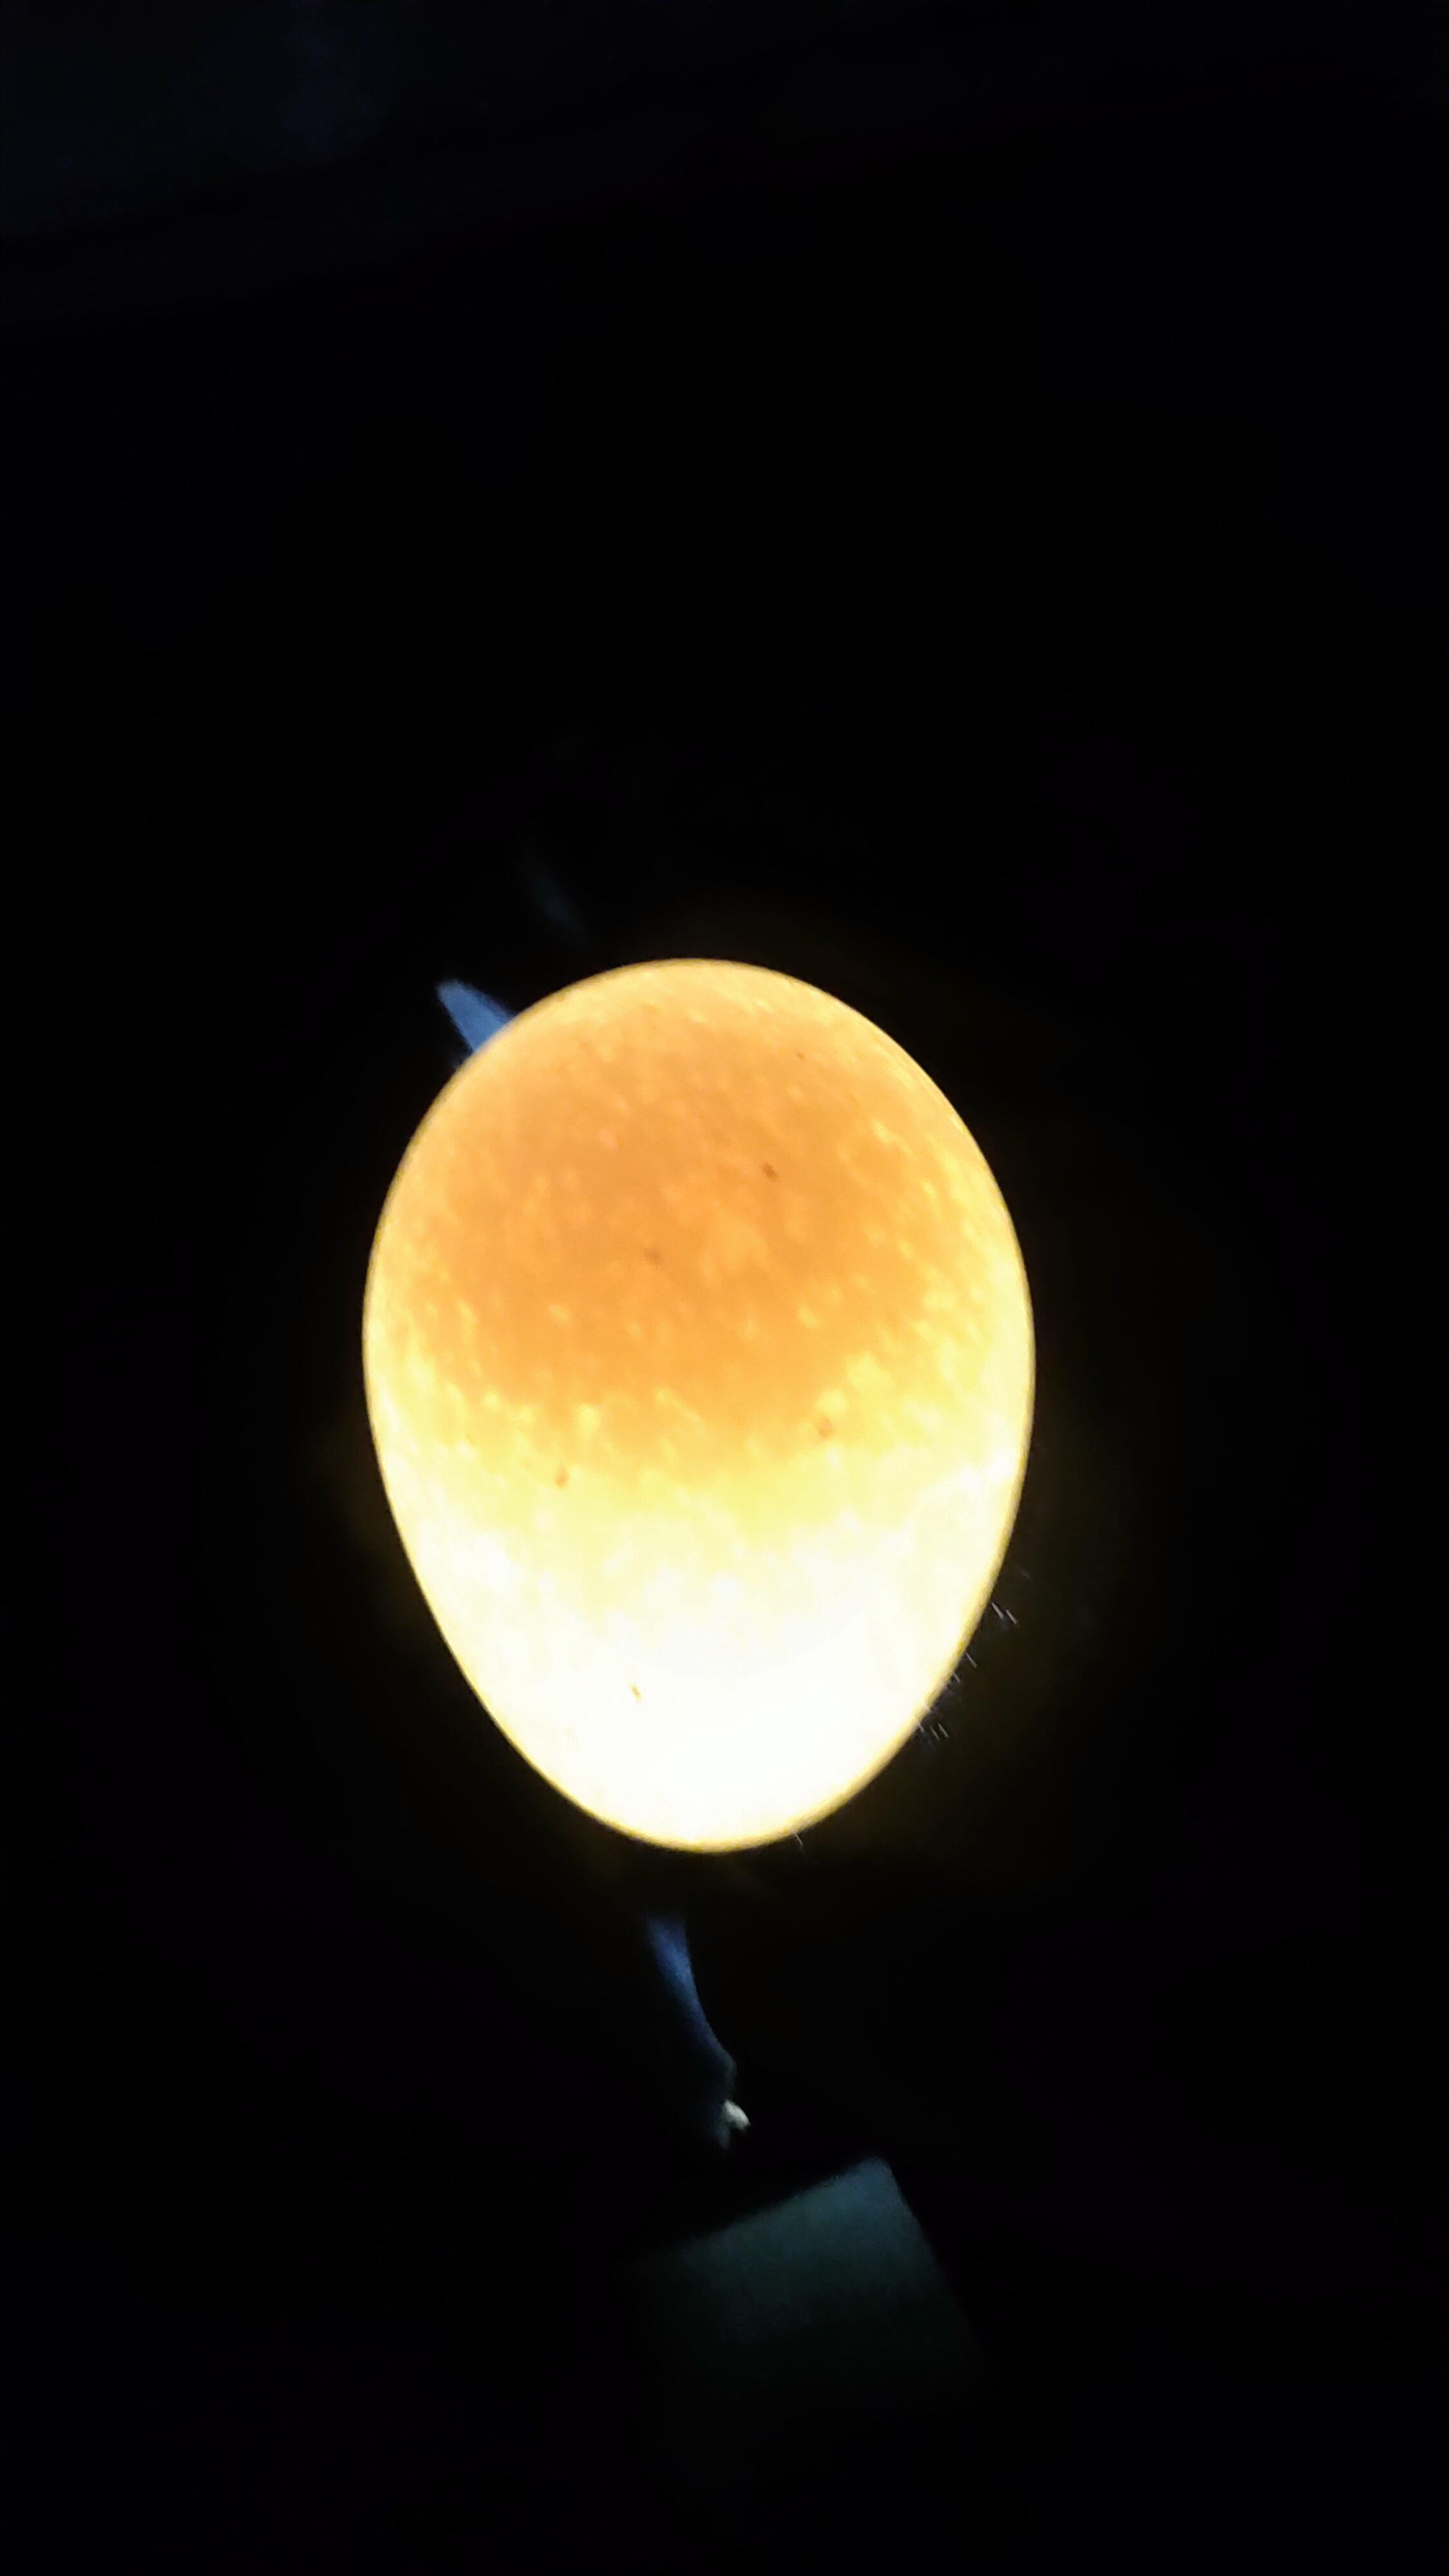Inedible: (329, 902, 1088, 1913)
